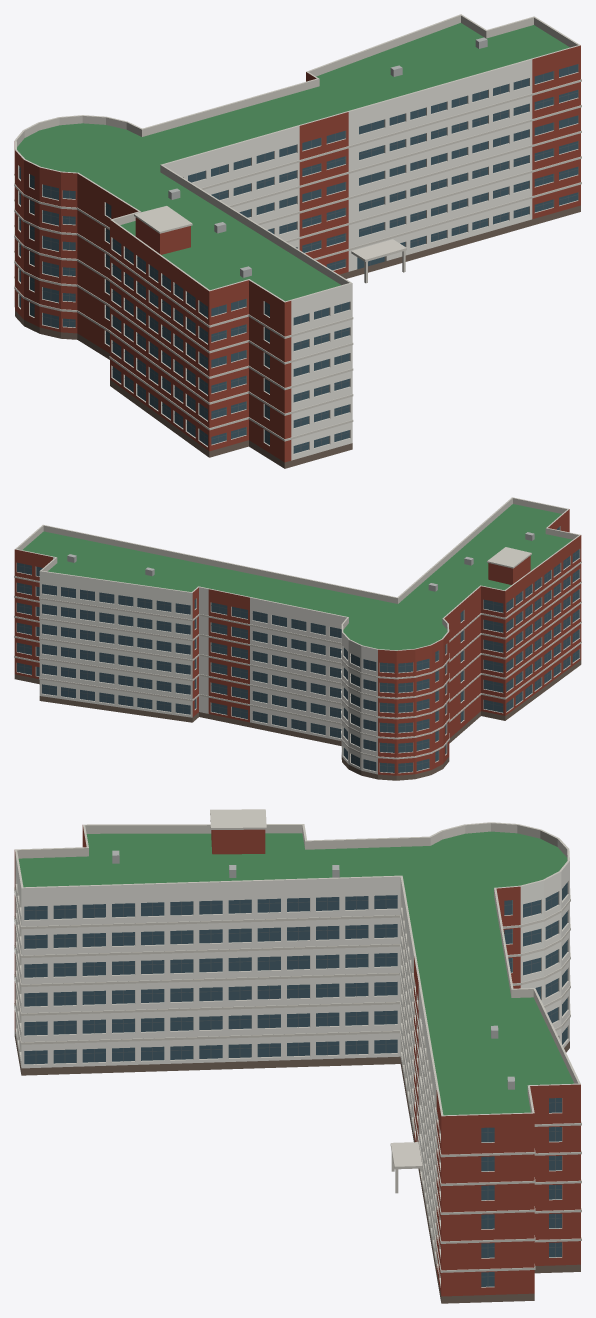
3 views of the same model, one above another, from view 1: azimuth 30°, elevation 25°; view 2: azimuth 150°, elevation 25°; view 3: azimuth 270°, elevation 25° (orthographic). The views are drawn at different scales.
Parts seen in each view (by area): view 1: wing1__brick, wing1__wall-plaster, wing1__roof, wing1__trim-concrete, wing1__glass, wing1__base-stone, wing1__frame, wing1__canopy-concrete, wing1__equipment; view 2: wing1__brick, wing1__glass, wing1__wall-plaster, wing1__roof, wing1__trim-concrete, wing1__frame, wing1__base-stone, wing1__equipment; view 3: wing1__wall-plaster, wing1__roof, wing1__glass, wing1__trim-concrete, wing1__brick, wing1__base-stone, wing1__frame, wing1__canopy-concrete.
Boxes of the visible parts, <box> form: wing1__brick: <box>14,45,580,462</box>; wing1__wall-plaster: <box>163,59,532,460</box>; wing1__roof: <box>17,23,569,301</box>; wing1__trim-concrete: <box>14,14,581,454</box>; wing1__glass: <box>19,64,577,453</box>; wing1__base-stone: <box>14,205,580,468</box>; wing1__frame: <box>19,67,577,451</box>; wing1__canopy-concrete: <box>351,239,406,283</box>; wing1__equipment: <box>168,37,487,277</box>; wing1__brick: <box>14,509,581,775</box>; wing1__glass: <box>17,527,579,772</box>; wing1__wall-plaster: <box>39,557,377,774</box>; wing1__roof: <box>22,504,572,650</box>; wing1__trim-concrete: <box>14,497,581,773</box>; wing1__frame: <box>17,528,579,772</box>; wing1__base-stone: <box>14,660,581,780</box>; wing1__equipment: <box>67,532,534,591</box>; wing1__wall-plaster: <box>15,854,569,1267</box>; wing1__roof: <box>18,831,574,1115</box>; wing1__glass: <box>24,882,567,1286</box>; wing1__trim-concrete: <box>14,809,581,1287</box>; wing1__brick: <box>14,825,580,1296</box>; wing1__base-stone: <box>14,1030,580,1303</box>; wing1__frame: <box>24,885,567,1286</box>; wing1__canopy-concrete: <box>390,1142,422,1193</box>.
Size of the model in its own units: 78.76 by 25.65 by 64.14.
